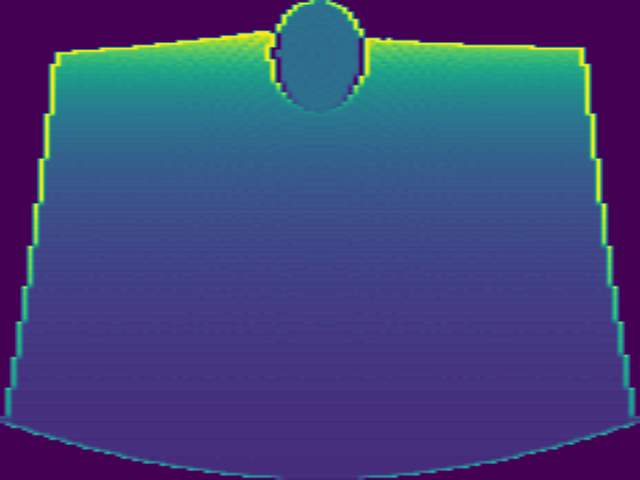sphere: (269, 1, 367, 113)
